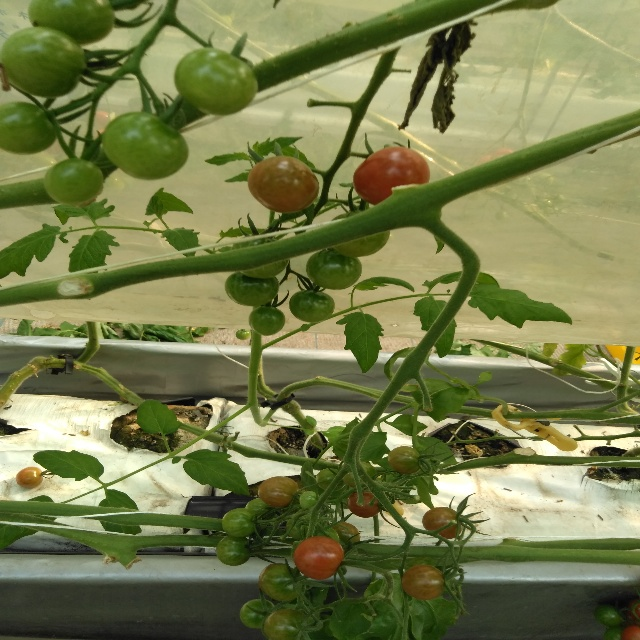l_fully_ripened: (352, 147, 430, 206), (293, 536, 344, 579), (347, 488, 384, 518)
l_green: (0, 27, 85, 98), (102, 112, 188, 181), (174, 48, 258, 117), (27, 0, 116, 45), (0, 101, 60, 155), (326, 209, 390, 257), (44, 158, 105, 205), (231, 235, 290, 279), (306, 247, 363, 291), (225, 271, 279, 307), (288, 290, 335, 323), (262, 566, 305, 602), (264, 609, 309, 640), (248, 306, 287, 336), (221, 507, 260, 537), (216, 535, 252, 566), (240, 599, 276, 628), (387, 446, 423, 474), (340, 461, 376, 487), (245, 497, 276, 521), (315, 468, 344, 491), (300, 491, 320, 509)
l_half_ripened: (246, 155, 320, 214), (402, 565, 446, 600), (421, 507, 462, 540), (258, 476, 298, 508), (331, 522, 361, 548), (16, 466, 43, 488)
